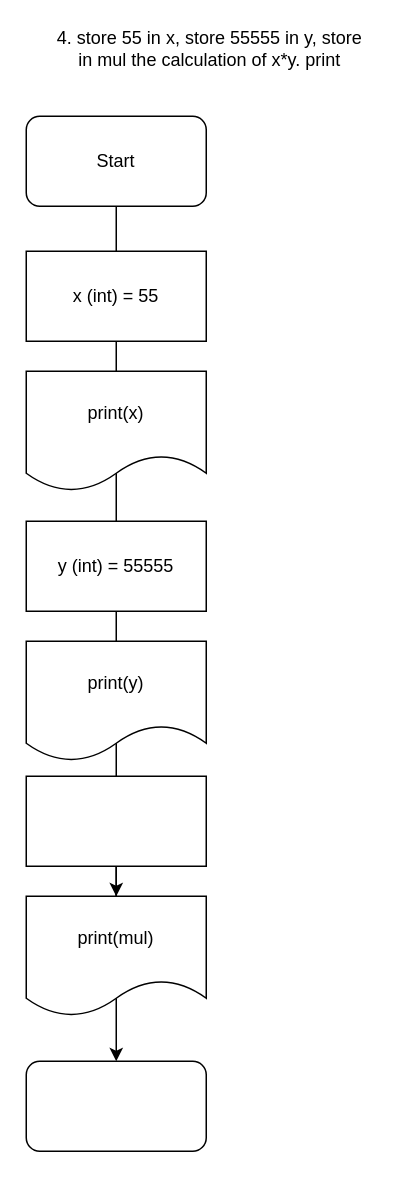
Some shapes in this 398 by 1178 pixel diagram are drawn without their labels. Each missing label, with the centre of its shape:
End: point 115,1105
mul (int) = x * y: point 115,820
